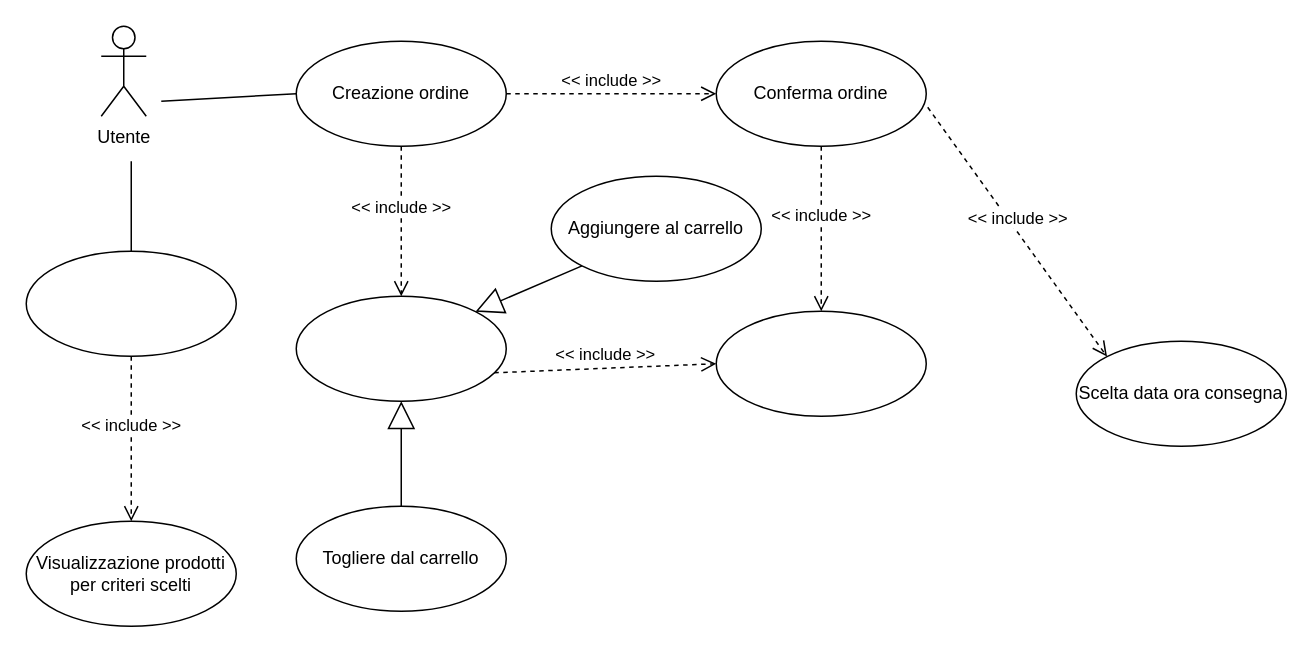
Some shapes in this 1313 by 653 pixel diagram are drawn without their labels. The shapes that lost their labels are listed below. From the top down, each one's box as (x1, y1, x2, y2) in pixels, then its label:
(25, 250, 236, 356): Visualizzare catalogo
(295, 295, 506, 401): Modifica carrello
(715, 310, 926, 416): Visualizzazione carrello
